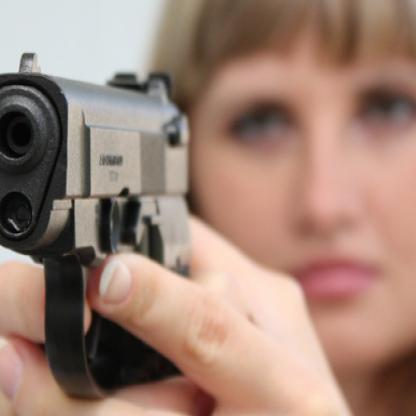gun: (0, 40, 242, 415)
